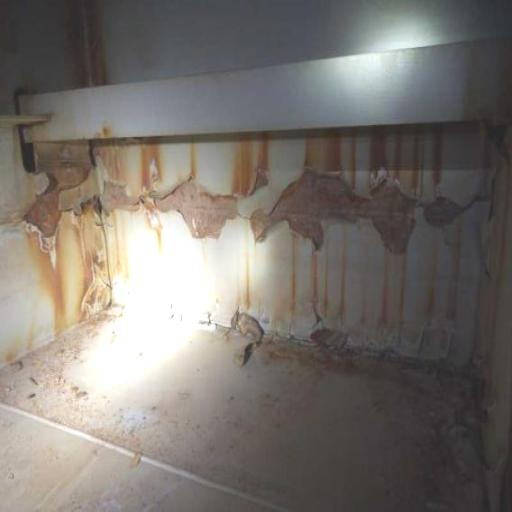Detect-rust-on-metal-surfaces: (14, 132, 486, 345), (216, 325, 485, 506), (247, 120, 483, 262), (221, 113, 275, 199)
